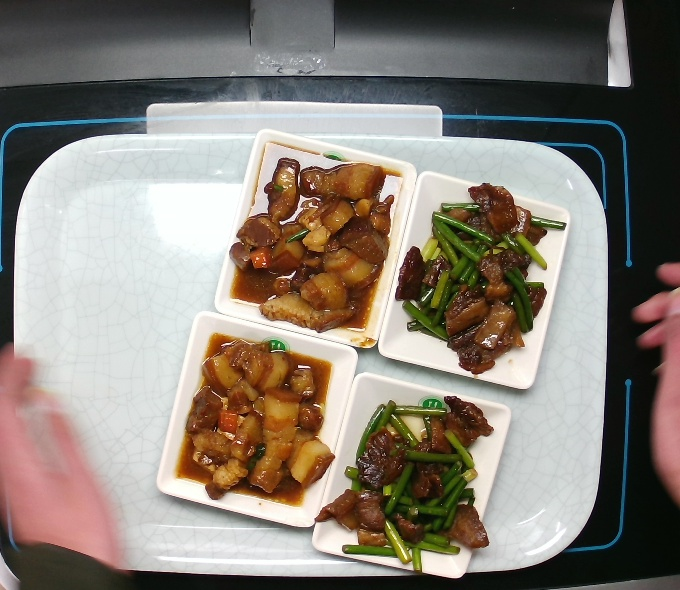wcq-HongShaoRou: (233, 152, 397, 324), (184, 333, 337, 503)
wcq-SuanMiaoChaoRou: (320, 392, 497, 575), (400, 178, 551, 375)
